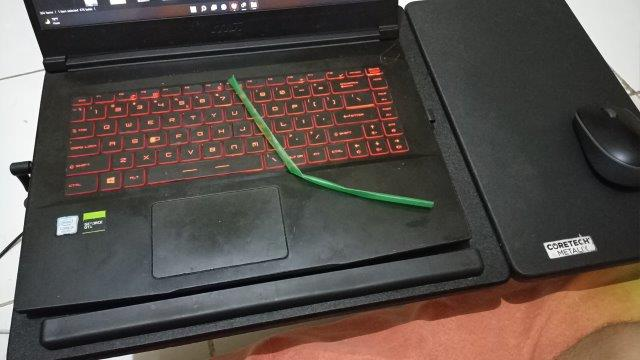sedotan: (229, 78, 432, 206)
